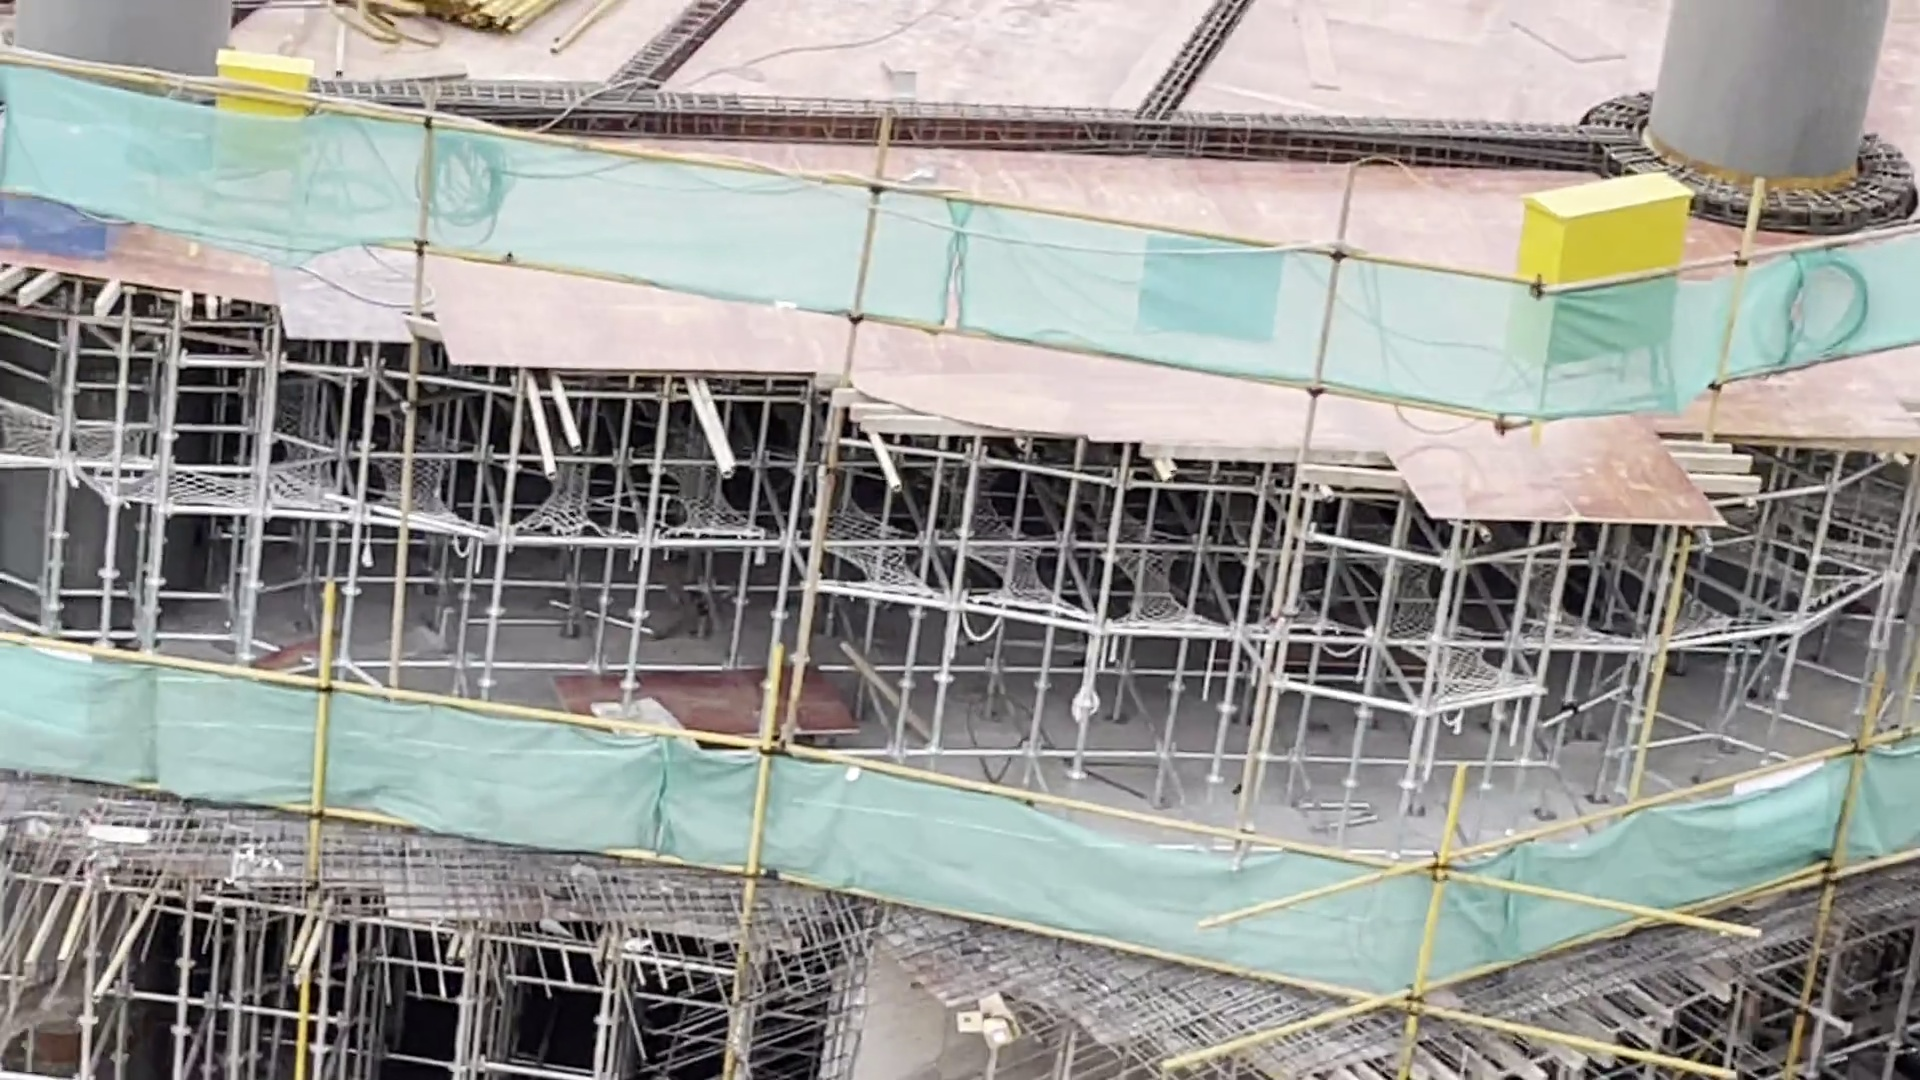ebox: (1509, 164, 1708, 443), (208, 50, 316, 225)
